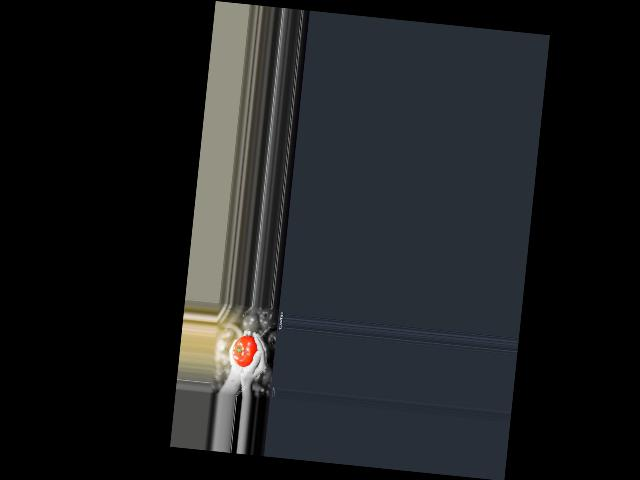tomato: (231, 334, 258, 368)
